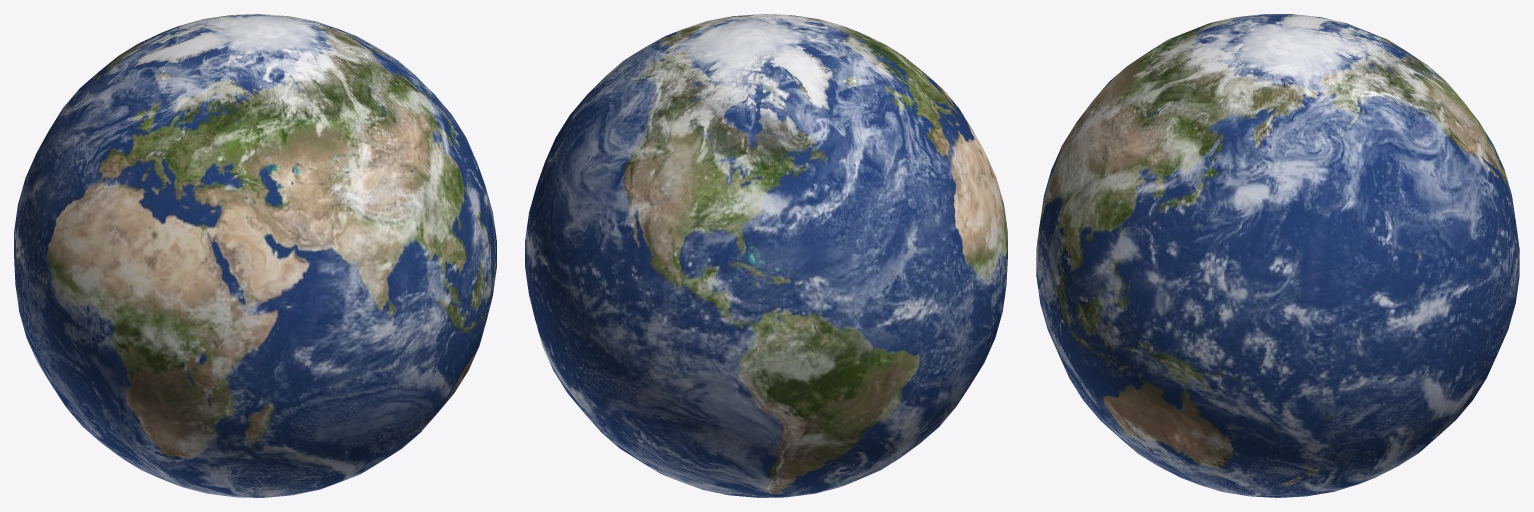
Rendered from earth.obj.
3 renders of one model, left to right at view 1: azimuth 30°, elevation 25°; view 2: azimuth 150°, elevation 25°; view 3: azimuth 270°, elevation 25°, orthographic.
Parts seen in each view (by area): view 1: earth; view 2: earth; view 3: earth.
Part boxes in pixels (x1,y1,x2,y2): earth: (14,14,496,497); earth: (525,14,1007,497); earth: (1036,14,1519,497).
Bounding box in the file's own units: 38.71 × 38.94 × 38.78.
1 material, 1 textured.
